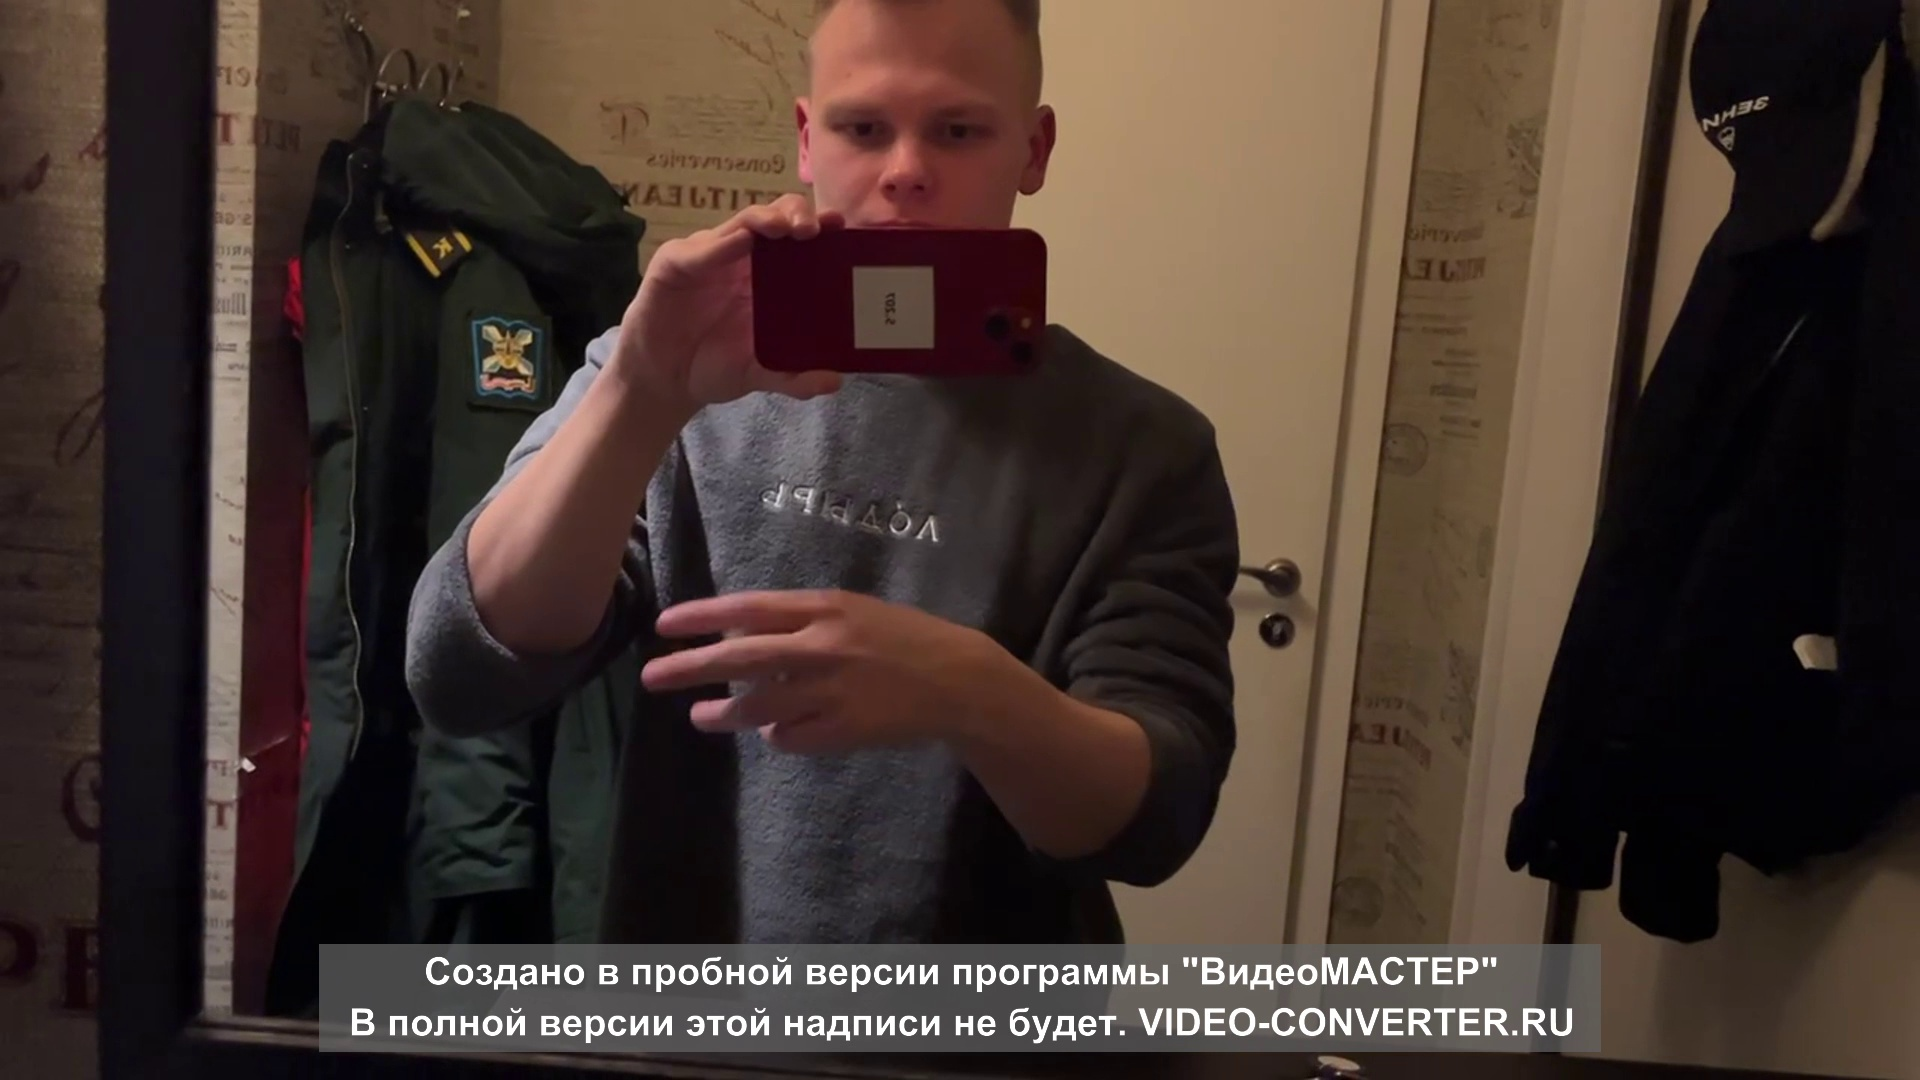Кисть: (641, 592, 965, 756)
